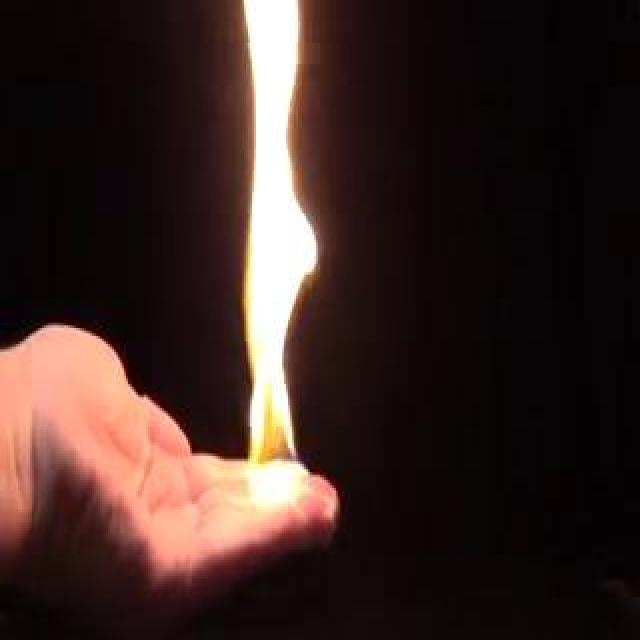Fire: (219, 2, 321, 506)
